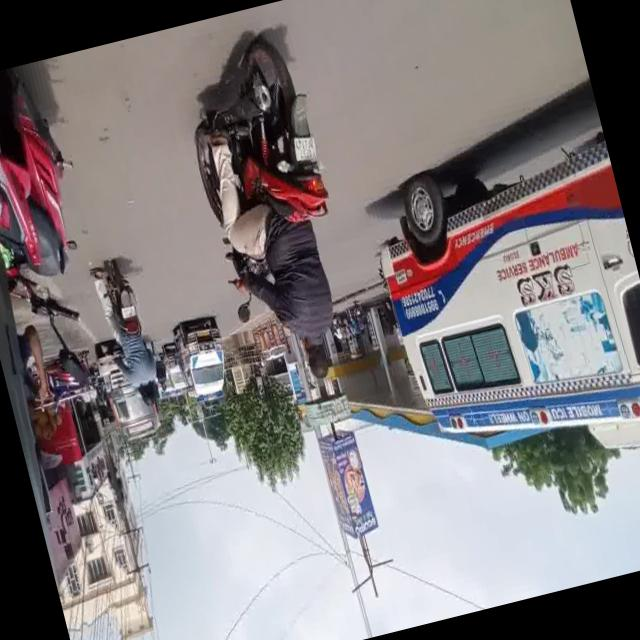ambulance: (355, 131, 640, 470), (150, 262, 253, 412), (78, 328, 164, 474)
